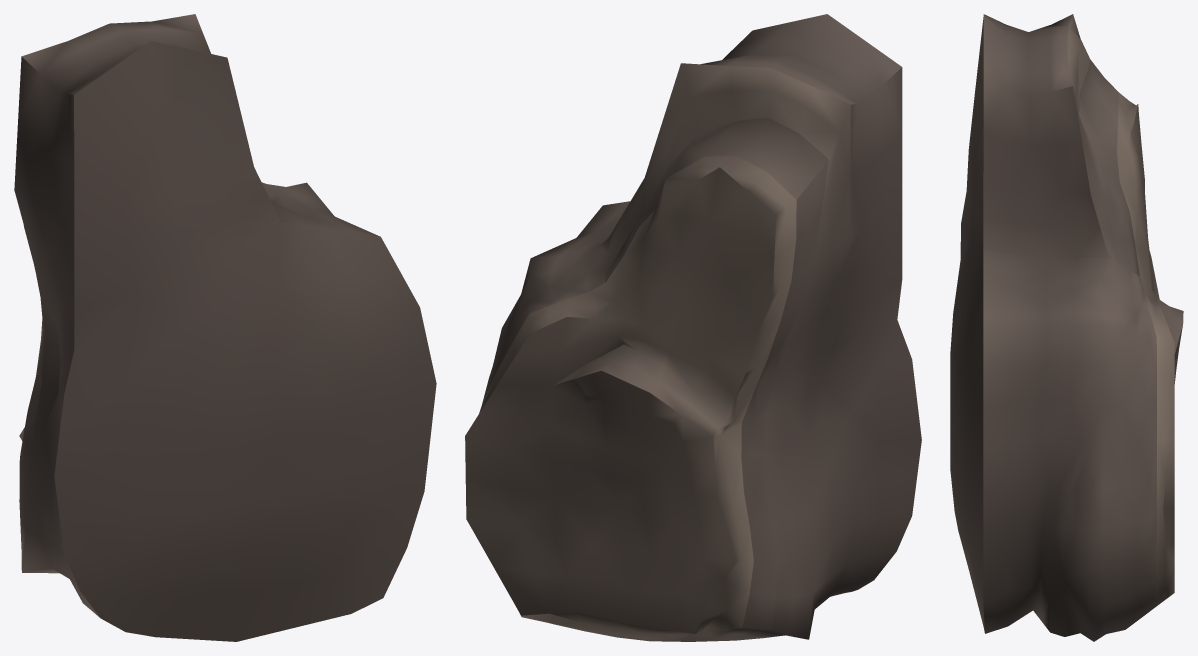
File: SharpRock.003.glb
3 renders of one model, left to right at view 1: azimuth 30°, elevation 25°; view 2: azimuth 150°, elevation 25°; view 3: azimuth 270°, elevation 25°, orthographic. The views are drawn at different scales.
Parts seen in each view (by area): view 1: SharpRock.003; view 2: SharpRock.003; view 3: SharpRock.003.
Part boxes in pixels (bbox=[...]): SharpRock.003: bbox=[14, 14, 436, 641]; SharpRock.003: bbox=[465, 14, 921, 641]; SharpRock.003: bbox=[950, 14, 1183, 641].
Bounding box in the file's own units: 385 × 584 × 234.
